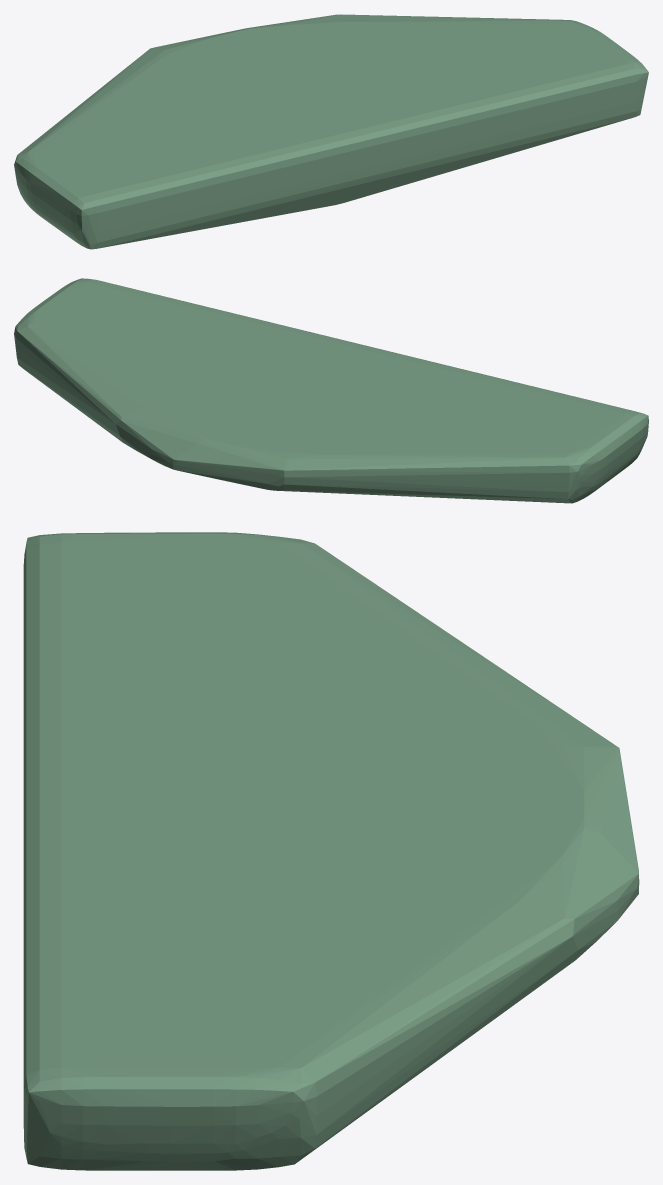
The model's file is left_shoulder_yaw_link_part_0.obj.
3 views of the same model, one above another, from view 1: azimuth 30°, elevation 25°; view 2: azimuth 150°, elevation 25°; view 3: azimuth 270°, elevation 25° (orthographic). The views are drawn at different scales.
Size of the model in its own units: 0.0986 by 0.0147 by 0.0457.
